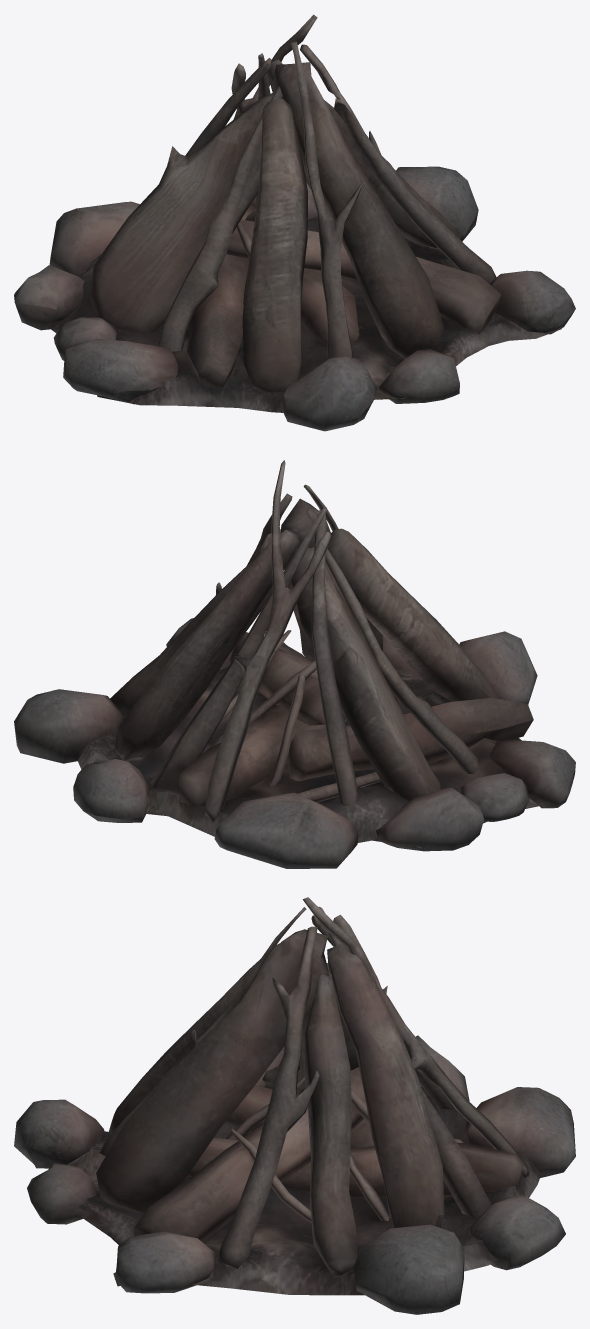
File: campfire_ring_cold.glb
The picture shows the model from 3 angles, top to bottom: view 1: azimuth 30°, elevation 25°; view 2: azimuth 150°, elevation 25°; view 3: azimuth 270°, elevation 25°; orthographic projection. The views are drawn at different scales.
Parts seen in each view (by area): view 1: campfire_ring_cold; view 2: campfire_ring_cold; view 3: campfire_ring_cold.
Part boxes in pixels (x1,y1,x2,y2): campfire_ring_cold: [14, 14, 575, 431]; campfire_ring_cold: [14, 460, 575, 868]; campfire_ring_cold: [14, 897, 575, 1314].
Bounding box in the file's own units: 1.45 × 0.8896 × 1.39.
Materials: 1 (1 with a texture image).
